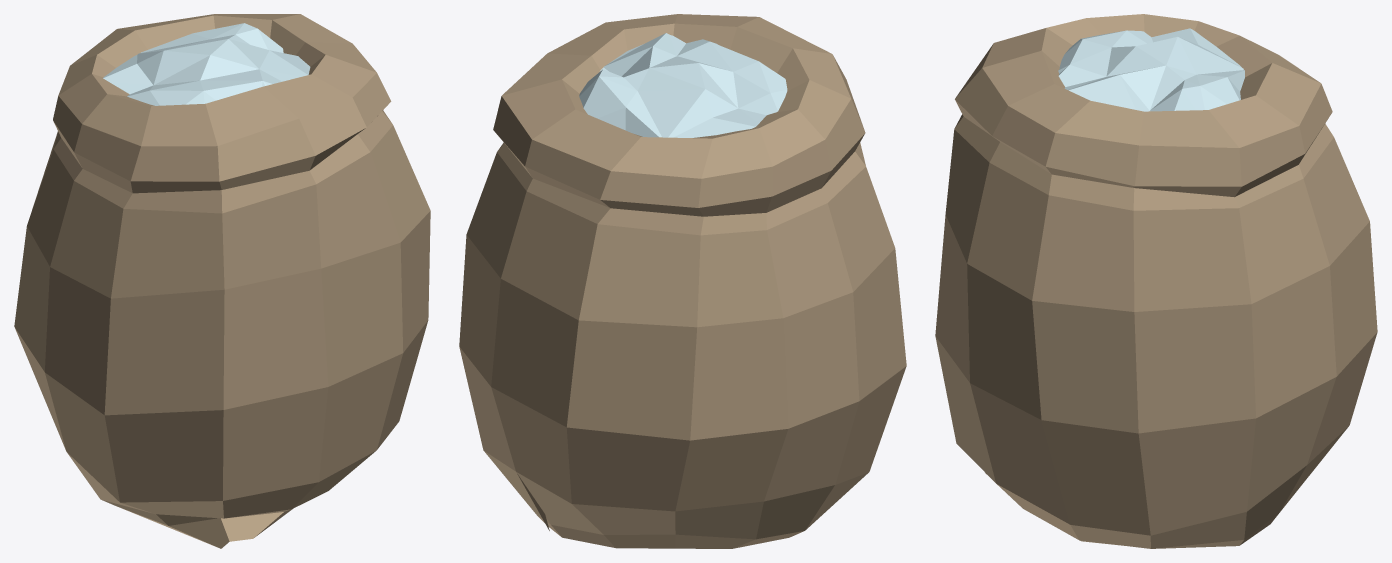
Rendered from SM_Prop_Sack_Large_01.glb.
The picture shows the model from 3 angles, left to right: view 1: azimuth 30°, elevation 25°; view 2: azimuth 150°, elevation 25°; view 3: azimuth 270°, elevation 25°; orthographic projection. The views are drawn at different scales.
Visible parts, largest first — view 1: SM_Prop_Sack_Large_01; view 2: SM_Prop_Sack_Large_01; view 3: SM_Prop_Sack_Large_01.
Boxes of the visible parts, x1,y1,x2,y2 form: SM_Prop_Sack_Large_01: [14, 14, 430, 548]; SM_Prop_Sack_Large_01: [459, 14, 906, 548]; SM_Prop_Sack_Large_01: [935, 14, 1377, 548].
Bounding box in the file's own units: 0.9045 × 1.04 × 0.9284.
1 material, 1 textured.
